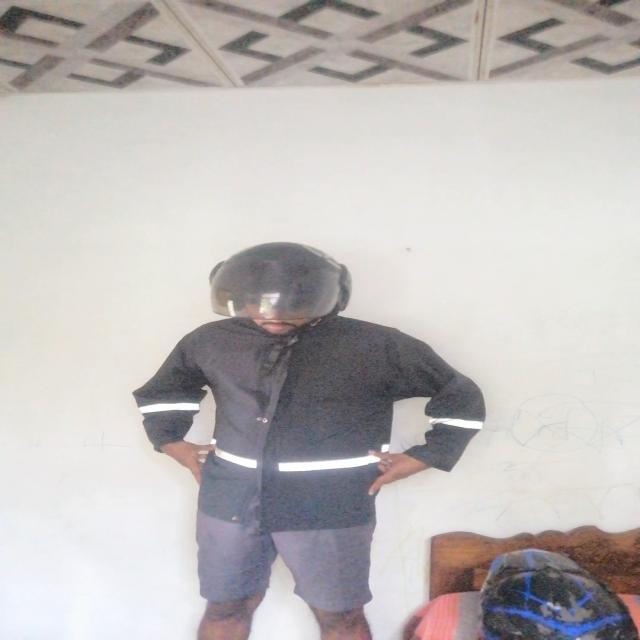Helmet_Wearer: (170, 238, 377, 334)
Jacket_Wearer: (136, 314, 505, 532)
Person: (142, 236, 488, 622)
